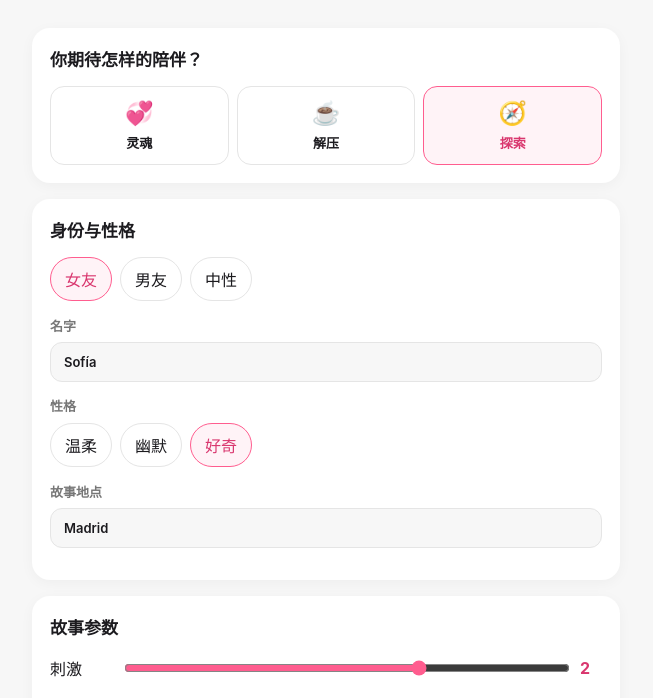
Test: Soul Mate MVP › loads and updates existing Soul Mate settings
Replace the text in the field labelled "名字" with "Luna" at (326, 362), box [50, 342, 602, 382]
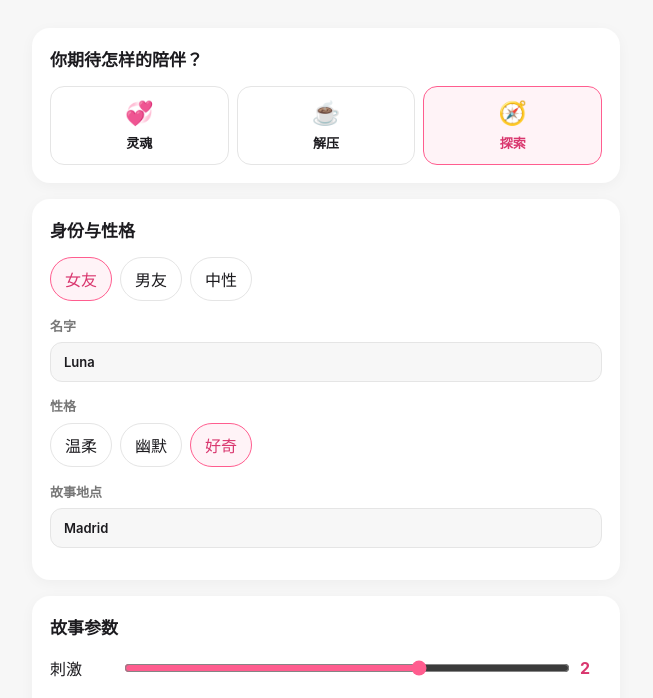
Set the slider labelled "刺激 2" to "3" at (562, 668), box [124, 660, 570, 676]
(page scrolled)
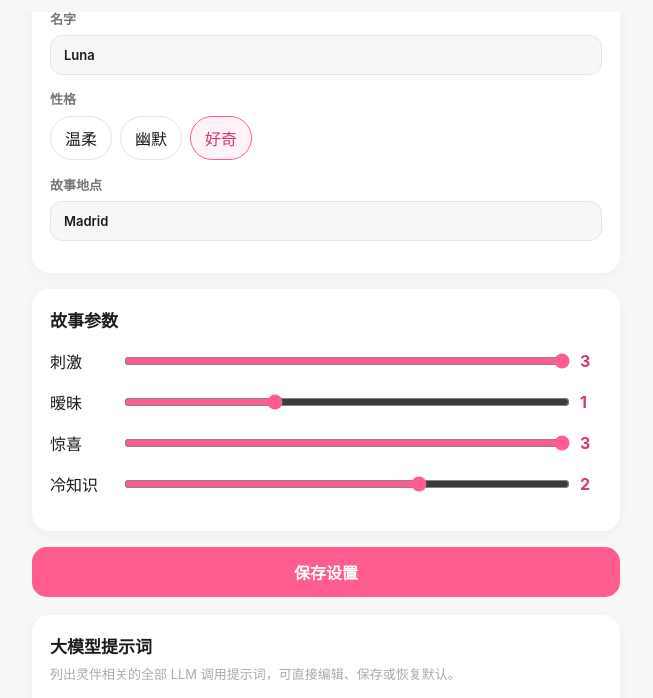
Submit the form
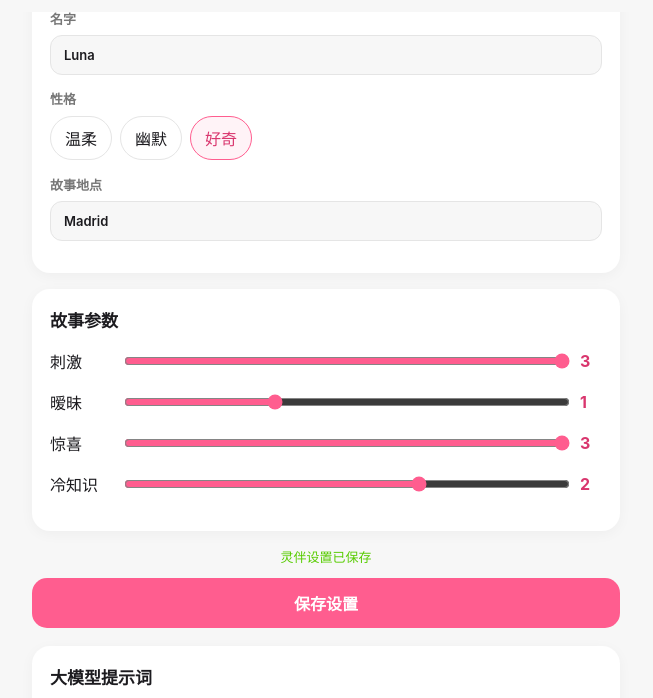
Now the text "灵伴设置已保存" is shown, box [280, 549, 372, 565]
